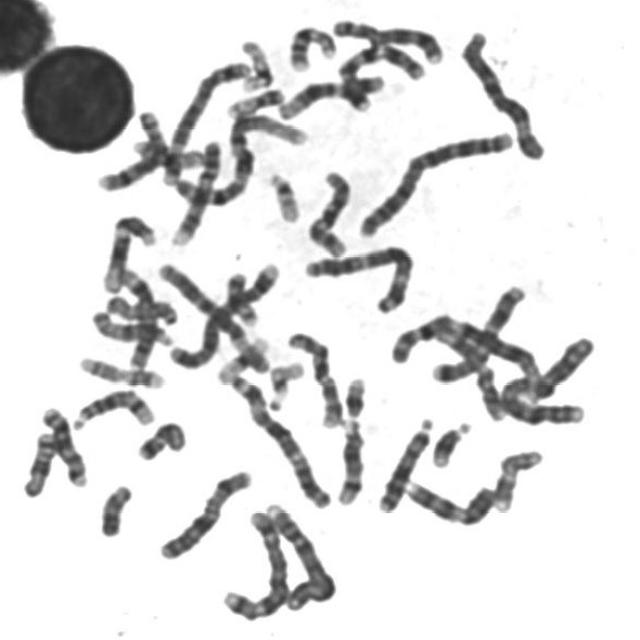A1: (386, 306, 553, 400), (164, 108, 310, 207)
A2: (352, 125, 518, 240), (493, 330, 598, 427)
A3: (217, 366, 334, 510), (297, 238, 417, 316)
B4: (160, 258, 280, 373), (262, 492, 345, 610)
B5: (158, 53, 254, 186), (217, 503, 292, 623)
C10: (281, 324, 346, 430), (302, 165, 354, 259)
C11: (96, 208, 158, 296), (117, 268, 161, 372)
C12: (271, 68, 387, 122), (96, 208, 158, 296)
C6: (455, 24, 549, 162), (166, 268, 267, 368)
C7: (428, 278, 530, 386), (332, 36, 429, 112)
C8: (91, 105, 169, 194), (326, 12, 447, 66)
C9: (166, 133, 226, 248), (399, 473, 499, 528)
D13: (371, 411, 436, 515), (36, 401, 91, 489)
D14: (66, 383, 157, 432), (330, 413, 368, 508)
D15: (86, 305, 177, 347), (106, 290, 178, 324)
E16: (126, 134, 206, 172), (283, 20, 340, 73)
E17: (488, 443, 547, 514), (72, 351, 167, 390)
E18: (19, 424, 66, 501), (131, 415, 189, 463)
F19: (212, 331, 272, 384), (233, 33, 276, 94)
F20: (220, 82, 288, 120), (220, 267, 260, 327)
G21: (426, 416, 474, 469), (338, 370, 369, 420)
G22: (260, 165, 304, 225), (263, 354, 308, 412)
X: (153, 462, 255, 563)
Y: (94, 479, 134, 539)
